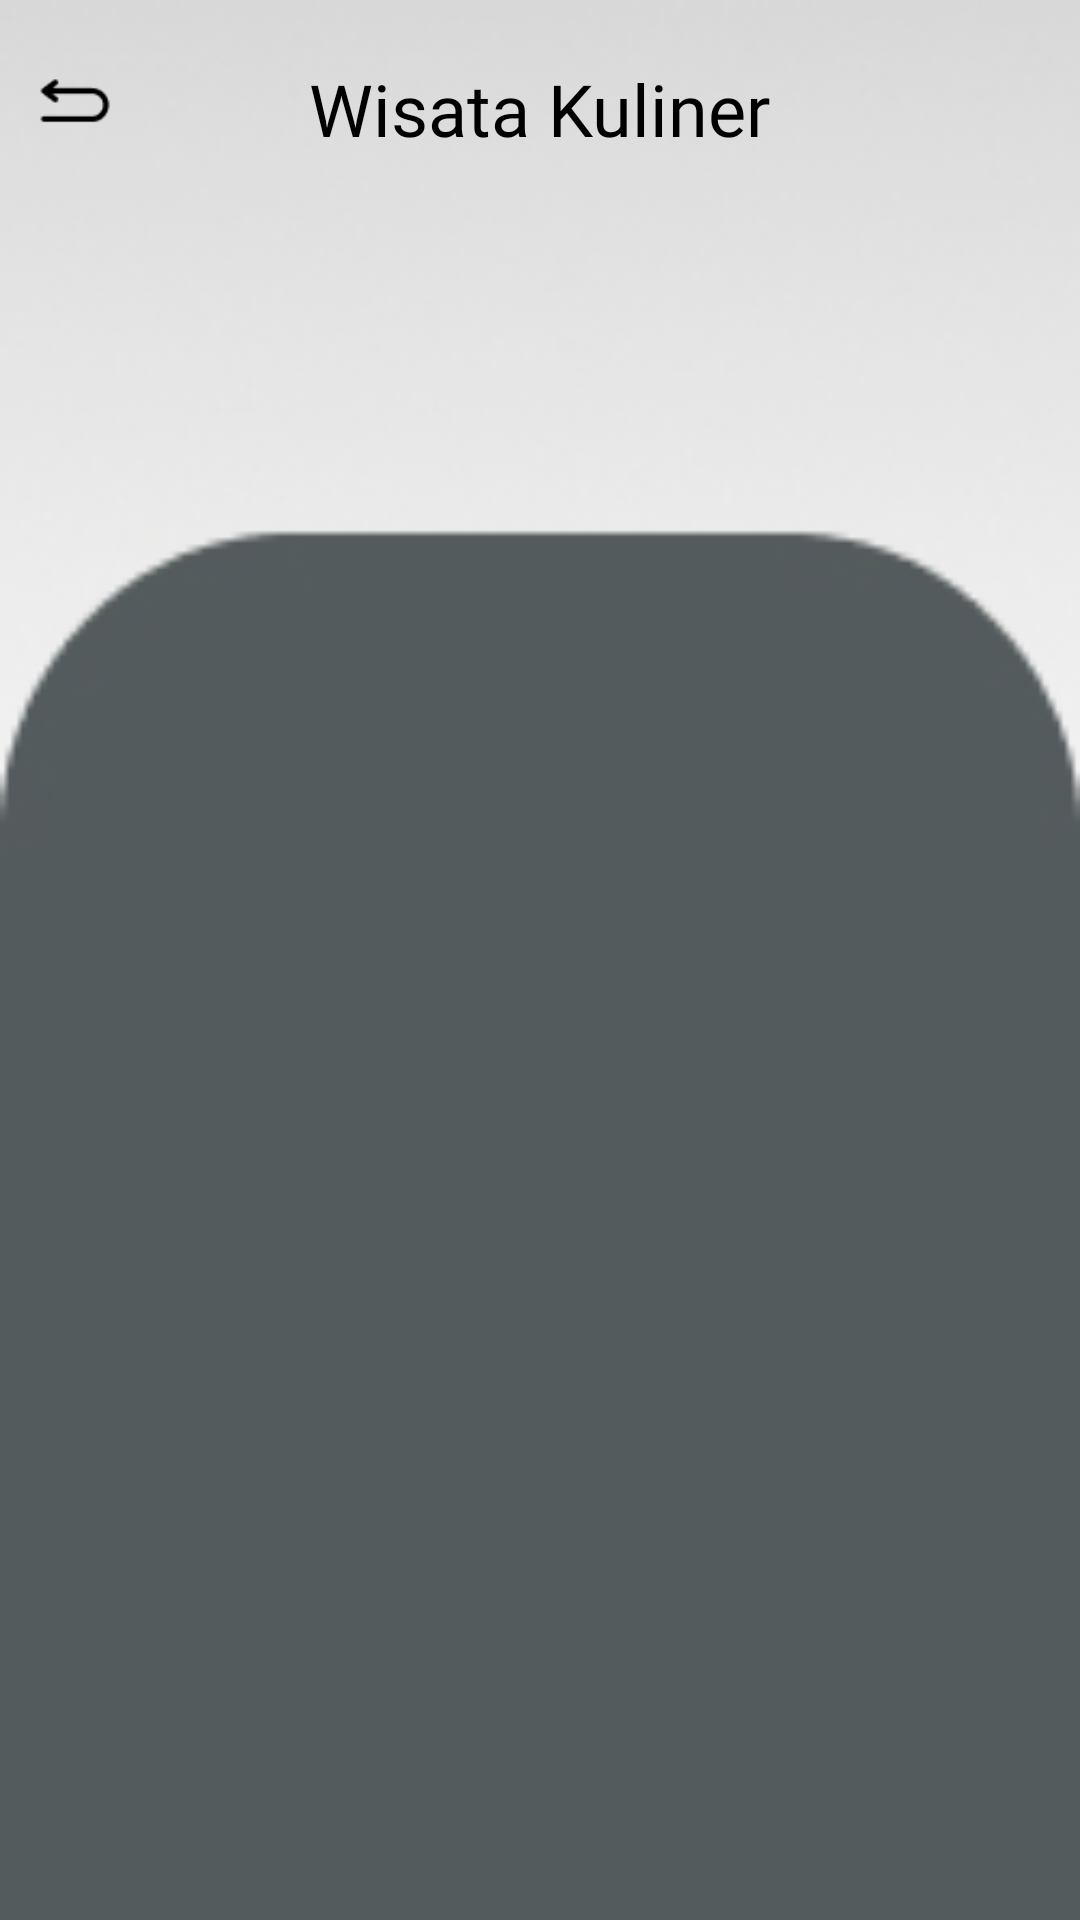

Screen size 1080px x 1920px. Icon name, then its box in pixels as (x1, y1, x2, y2):
arrow back: (40, 79, 110, 122)
